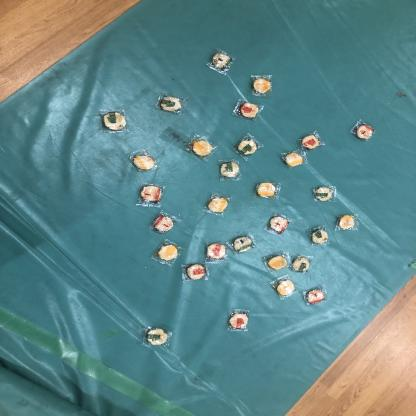green_setoshio: (140, 323, 175, 350), (100, 108, 130, 133), (232, 134, 263, 158), (155, 92, 187, 114), (208, 51, 233, 75), (310, 183, 338, 204), (217, 160, 243, 182), (232, 232, 258, 254), (290, 253, 315, 275), (308, 226, 332, 246)
red_setoshio: (232, 98, 267, 122), (137, 184, 167, 209), (224, 308, 254, 333), (149, 212, 181, 235), (184, 260, 212, 284), (350, 120, 378, 142), (200, 240, 228, 262), (298, 131, 326, 150), (302, 286, 328, 306), (268, 214, 292, 234)
yellow_setoshio: (128, 147, 161, 173), (184, 134, 218, 158), (155, 240, 184, 264), (280, 147, 310, 170), (272, 278, 300, 302), (250, 75, 278, 97), (253, 180, 283, 200), (204, 194, 232, 215), (263, 252, 292, 272), (336, 213, 359, 229)
